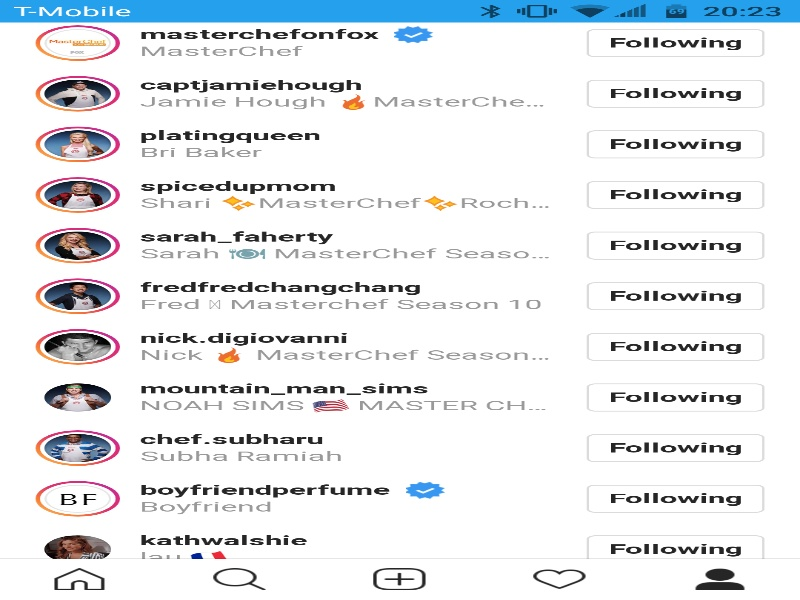follow: (582, 427, 768, 469), (582, 378, 770, 419), (584, 479, 768, 520), (585, 174, 769, 214), (585, 71, 770, 110), (585, 24, 773, 62), (584, 327, 770, 365), (585, 124, 769, 162), (585, 528, 774, 564), (583, 227, 768, 263), (584, 280, 766, 314)
